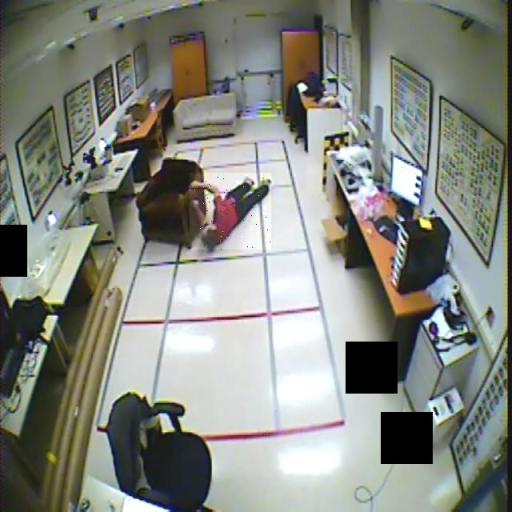Fall: (190, 173, 271, 250)
